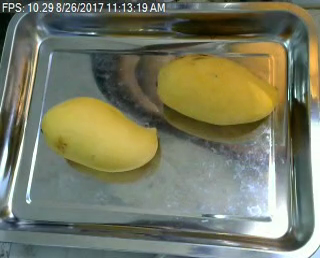Mango: (38, 92, 164, 177), (152, 48, 283, 128)
